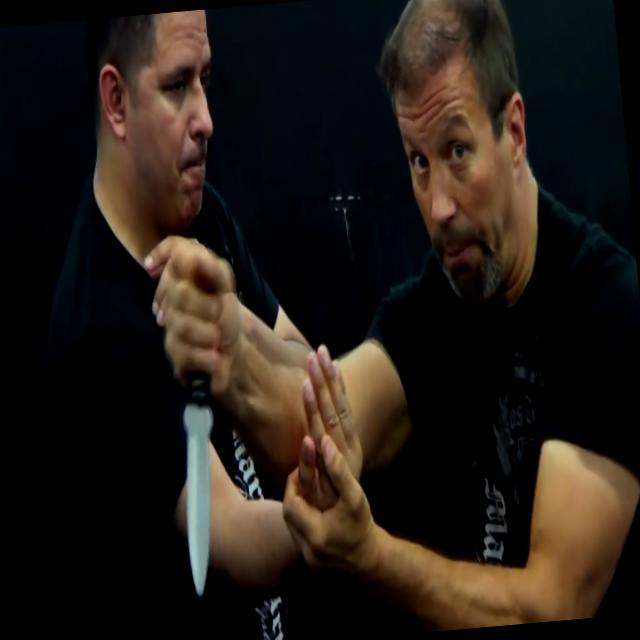knife: (147, 232, 252, 604)
